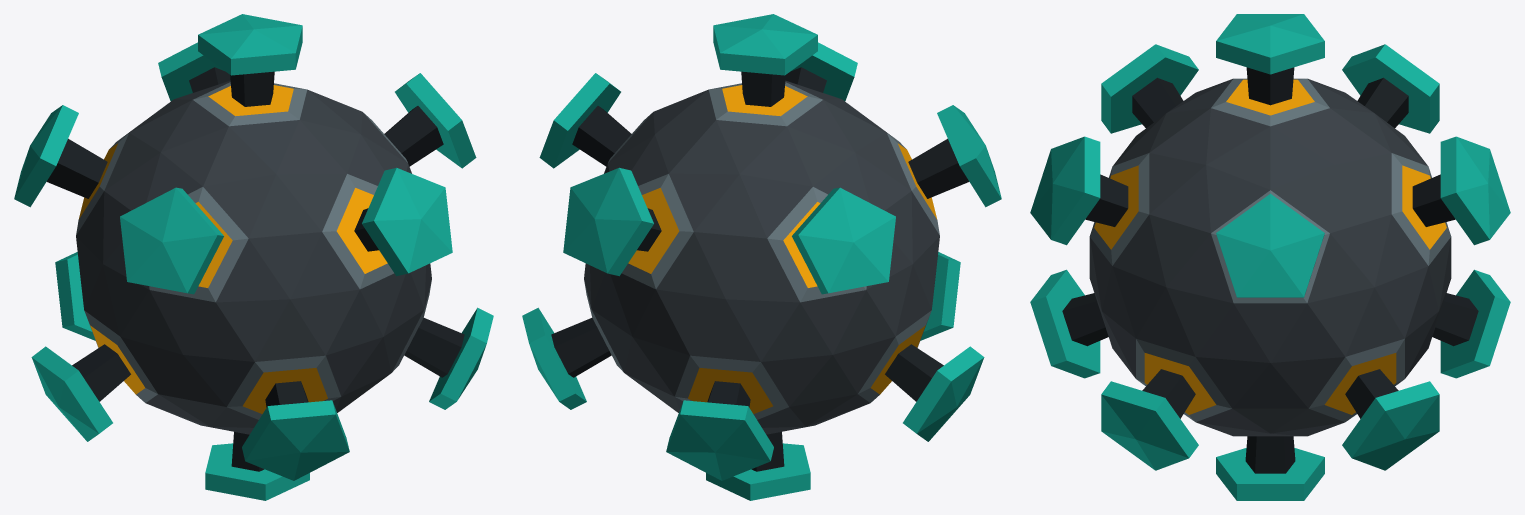
Rendered from prop06.FBX.
The picture shows the model from 3 angles, left to right: view 1: azimuth 30°, elevation 25°; view 2: azimuth 150°, elevation 25°; view 3: azimuth 270°, elevation 25°; orthographic projection.
Visible parts, largest first — view 1: prop06; view 2: prop06; view 3: prop06.
Boxes of the visible parts, left/top/right/bottom form: prop06: left=14, top=14, right=493, bottom=500; prop06: left=522, top=14, right=1001, bottom=500; prop06: left=1030, top=14, right=1510, bottom=500.
Size of the model in its own units: 5.58 by 5.91 by 5.55.
